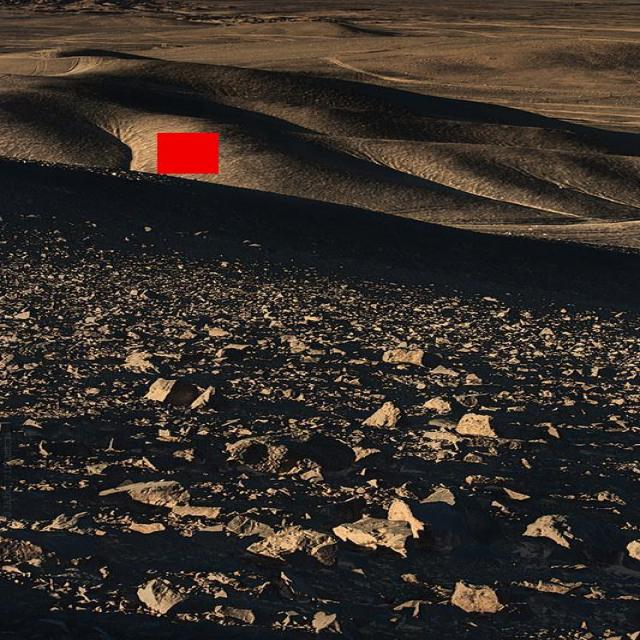RedSquare: (152, 127, 224, 181)
